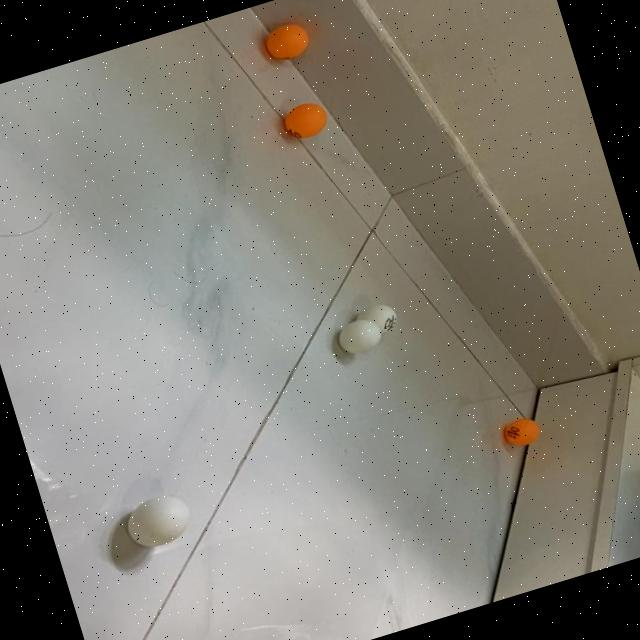ping-pong-ball: (119, 488, 197, 556), (332, 314, 386, 359), (258, 19, 312, 64), (279, 96, 331, 140), (348, 299, 399, 340), (500, 414, 540, 450)
